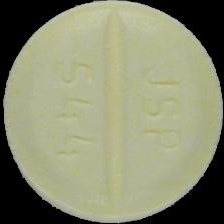63187-740: (0, 0, 224, 224)
